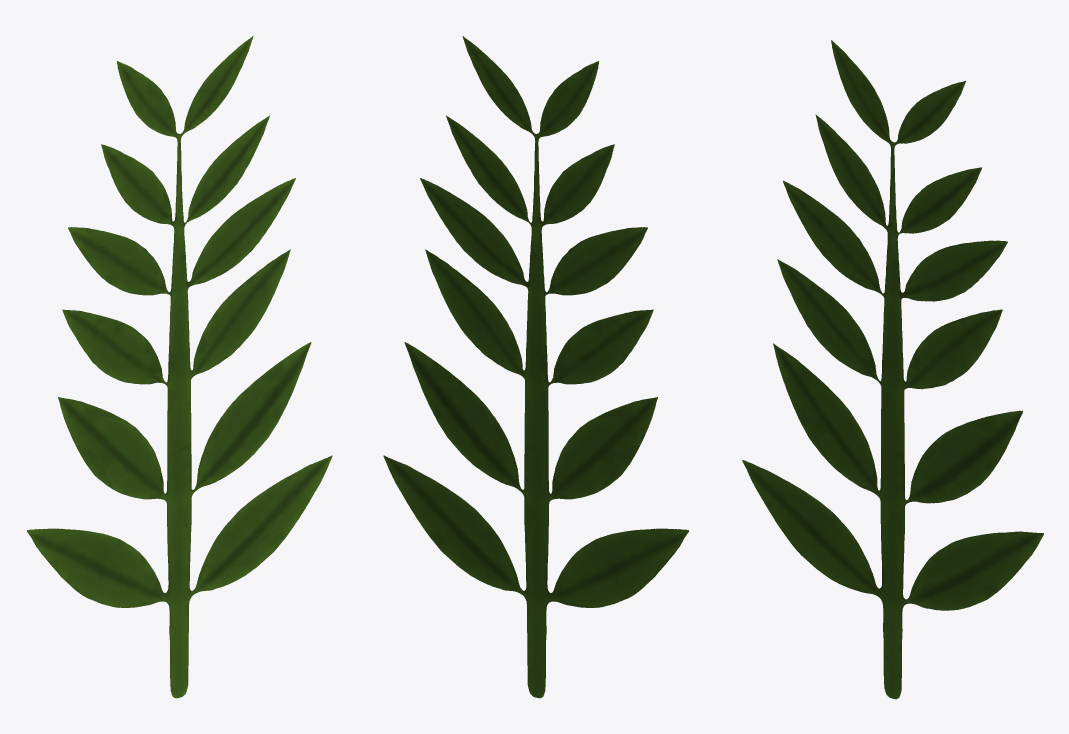
Rendered from Foliage_02.fbx.
3 views of the same model, side by side, from view 1: azimuth 30°, elevation 25°; view 2: azimuth 150°, elevation 25°; view 3: azimuth 330°, elevation 25° (orthographic).
Visible parts, largest first — view 1: Foliage_02; view 2: Foliage_02; view 3: Foliage_02.
Boxes of the visible parts, left/top/right/bottom form: Foliage_02: left=27, top=36, right=332, bottom=698; Foliage_02: left=383, top=36, right=688, bottom=698; Foliage_02: left=742, top=40, right=1043, bottom=699.
Size of the model in its own units: 0.4214 by 0.8429 by 0.
